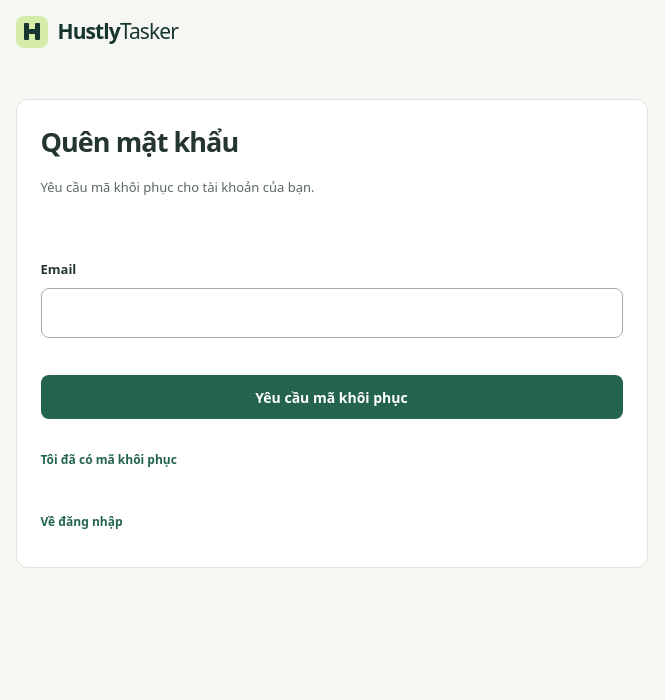
it: password recovery frontend › accepts the same neutral request success for every well-formed address
The image size is (665, 700).
Type "unknown@example.test" into the field labelled "Email" at (332, 313), box [40,288,622,338]
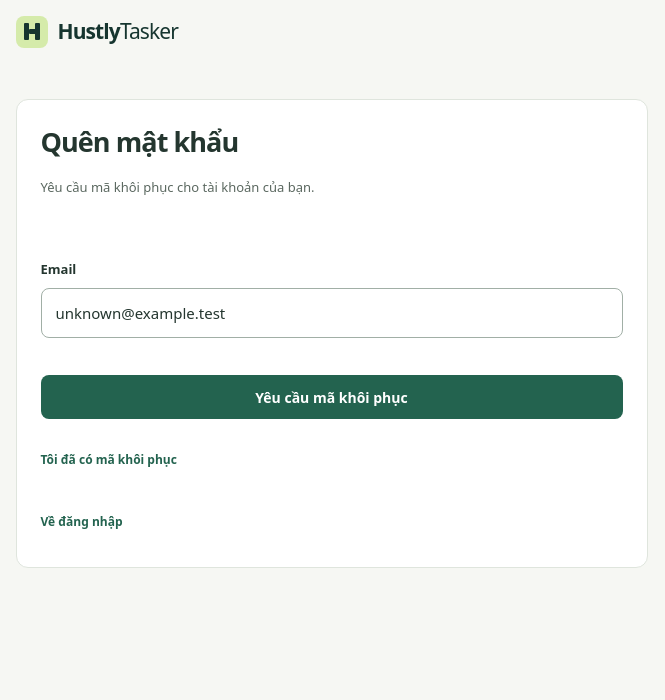
Click the button "Yêu cầu mã khôi phục" at (332, 397), box [40,375,622,419]
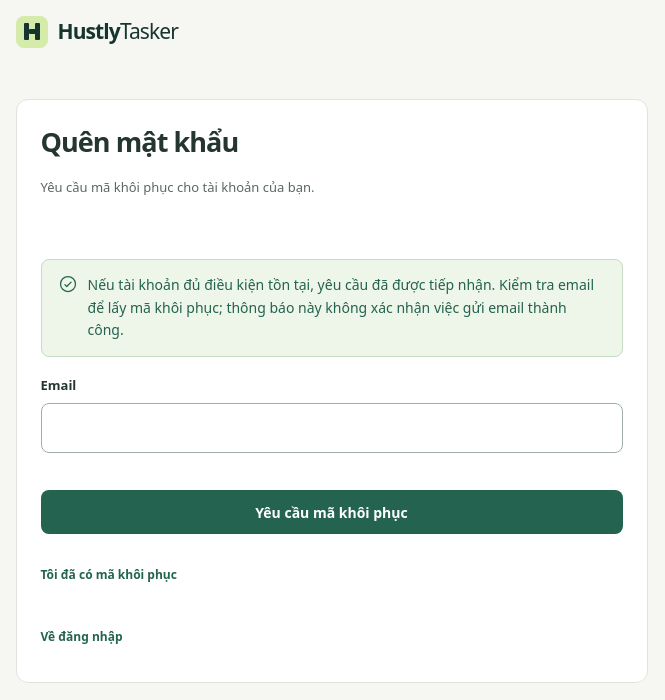
Now the message shows "Nếu tài khoản đủ điều kiện tồn tại", box [88,275,594,339]
Now the message shows "không xác nhận việc gửi email thành công", box [88,275,594,339]
